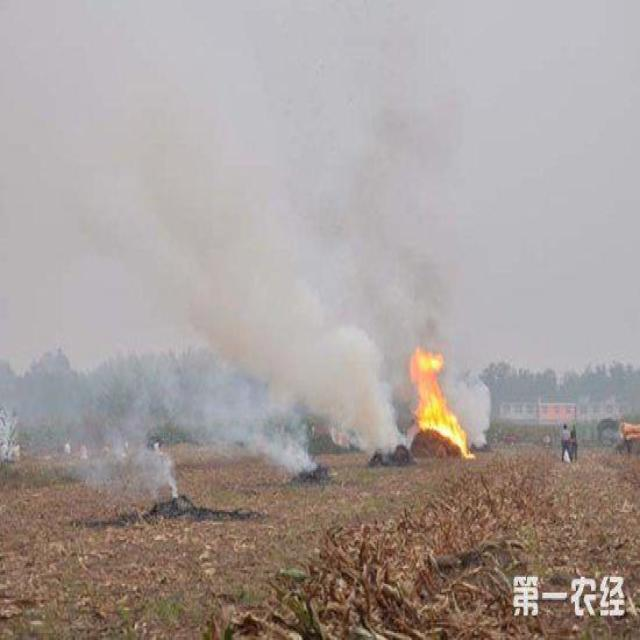fire: (401, 336, 477, 460)
smoke: (178, 181, 393, 450), (334, 144, 488, 443), (258, 430, 306, 472), (144, 454, 182, 493)
